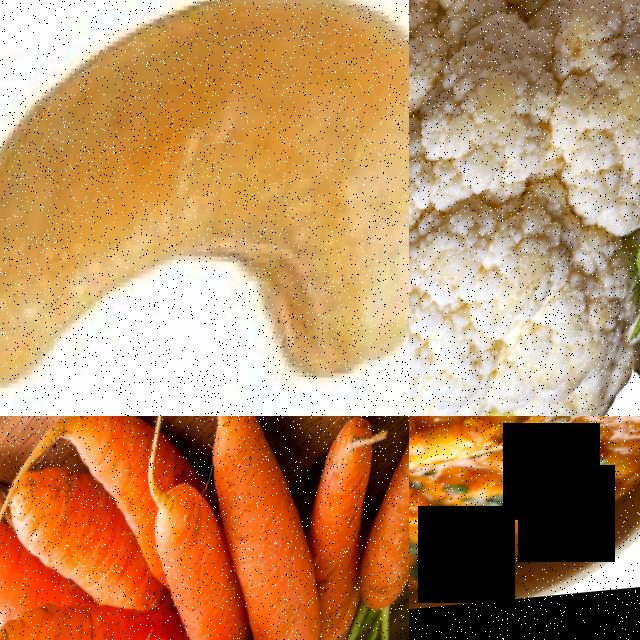carrot: (225, 416, 345, 622), (2, 458, 127, 610), (313, 416, 409, 606), (55, 416, 194, 538), (133, 489, 242, 640), (352, 416, 409, 640), (3, 604, 148, 640)
cashew: (0, 0, 409, 416)
cauliflower: (409, 0, 640, 416)
